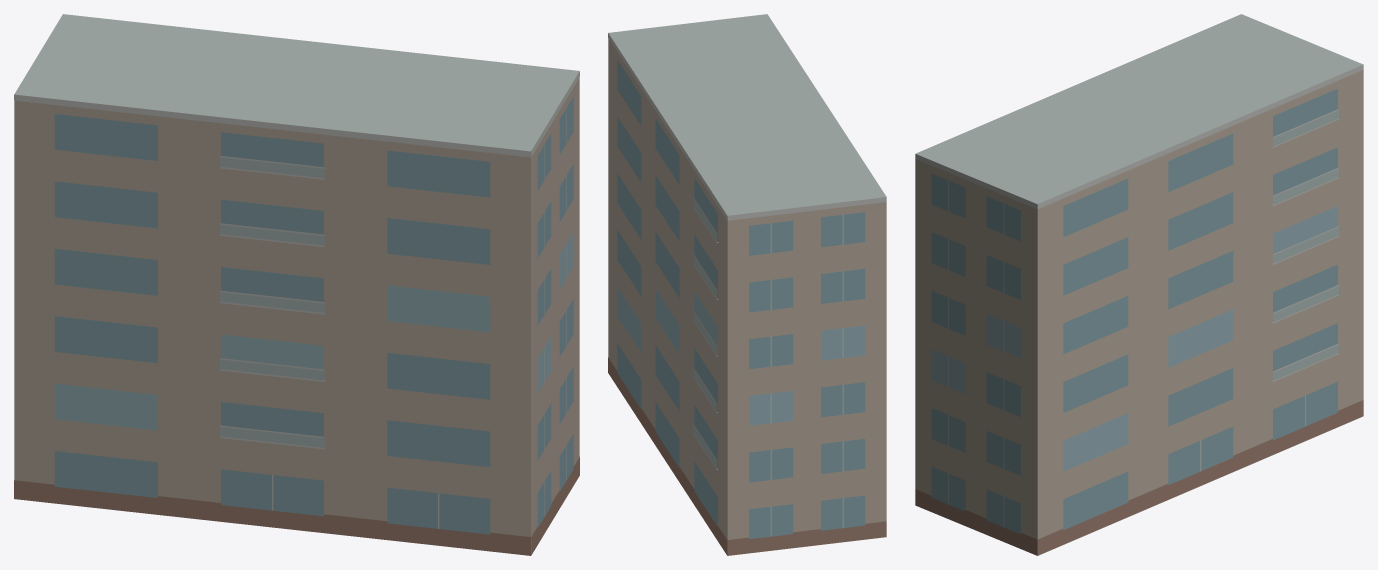
The model's file is survey-upis-32742566.glb.
The picture shows the model from 3 angles, left to right: view 1: azimuth 30°, elevation 25°; view 2: azimuth 150°, elevation 25°; view 3: azimuth 270°, elevation 25°; orthographic projection. The views are drawn at different scales.
Visible parts, largest first — view 1: survey-upis-32742566.tmp; view 2: survey-upis-32742566.tmp; view 3: survey-upis-32742566.tmp.
Part boxes in pixels (left/top/right/bottom): survey-upis-32742566.tmp: left=14, top=14, right=579, bottom=555; survey-upis-32742566.tmp: left=608, top=14, right=886, bottom=555; survey-upis-32742566.tmp: left=915, top=14, right=1363, bottom=555.
Size of the model in its own units: 19.27 by 16.6 by 19.19.
